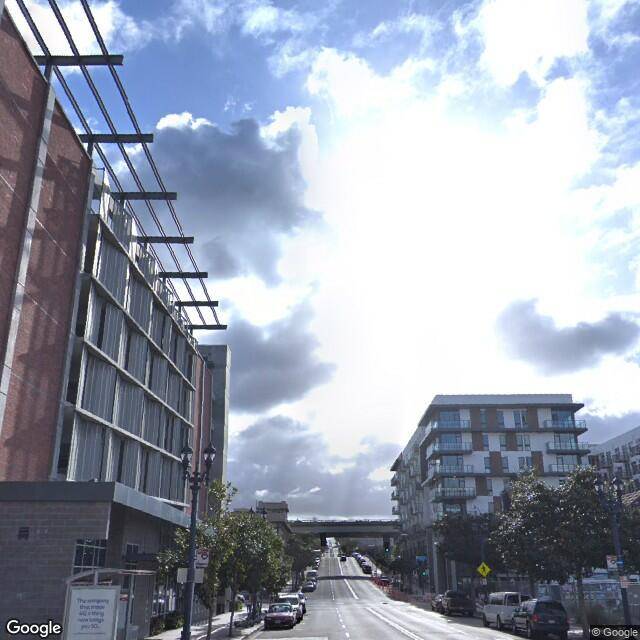light: (199, 441, 220, 469)
window: (441, 454, 461, 471), (501, 454, 512, 471)
